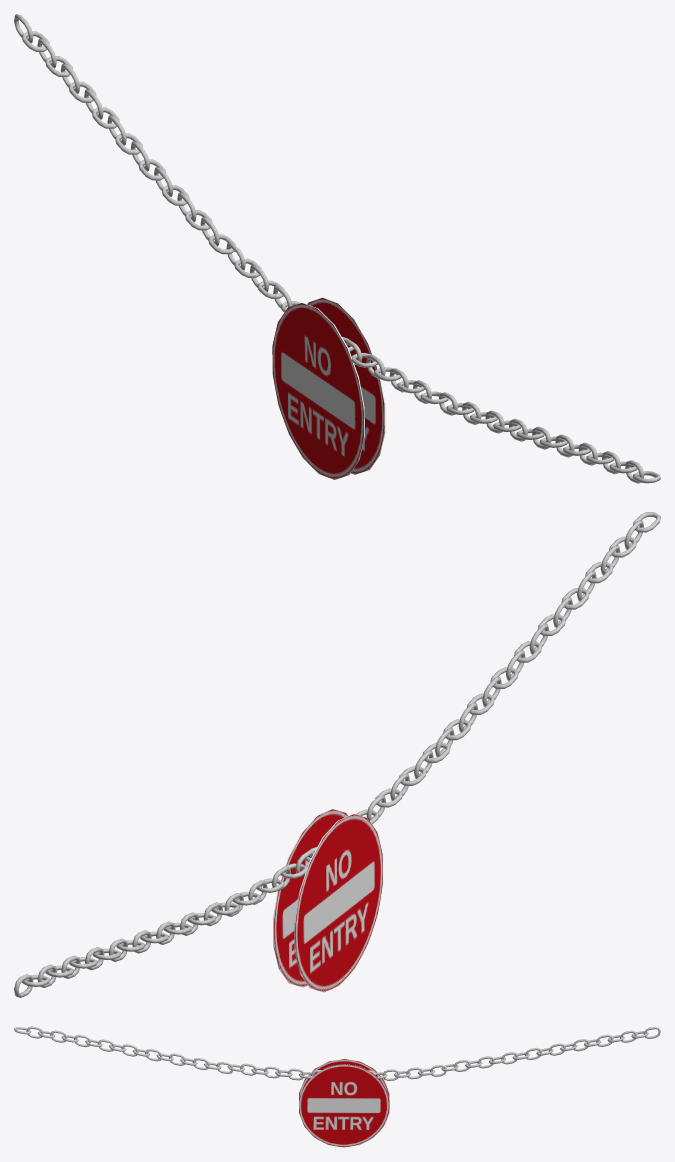
File: No entry.fbx
3 views of the same model, one above another, from view 1: azimuth 30°, elevation 25°; view 2: azimuth 150°, elevation 25°; view 3: azimuth 270°, elevation 25° (orthographic). The views are drawn at different scales.
Parts seen in each view (by area): view 1: No entry; view 2: No entry; view 3: No entry.
Boxes of the visible parts, bbox=[...] form: No entry: bbox=[14, 14, 660, 483]; No entry: bbox=[14, 512, 660, 997]; No entry: bbox=[14, 1026, 660, 1147].
Size of the model in its own units: 4.46 by 40.46 by 200.
